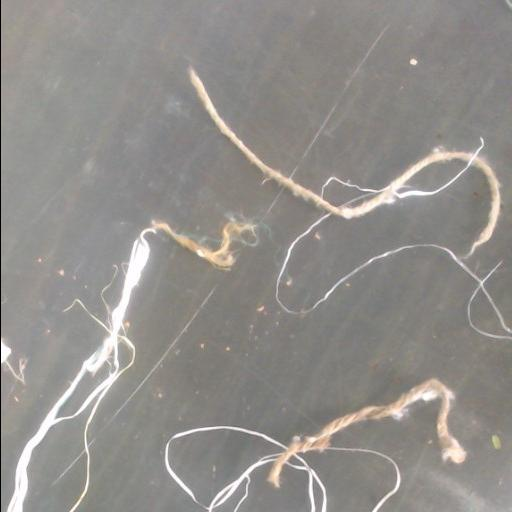conveyor belt: (1, 0, 512, 511), (170, 431, 280, 503), (24, 405, 90, 511), (302, 451, 394, 511), (238, 464, 307, 511), (58, 362, 108, 416), (402, 160, 465, 189), (470, 292, 512, 335), (323, 181, 368, 205)
jute: (189, 69, 499, 254), (267, 378, 465, 487), (151, 217, 257, 269)
thread: (8, 227, 155, 511), (305, 243, 512, 340), (163, 427, 288, 511), (389, 137, 484, 202), (274, 214, 330, 313), (328, 448, 400, 511), (288, 456, 327, 511), (321, 176, 384, 207)
